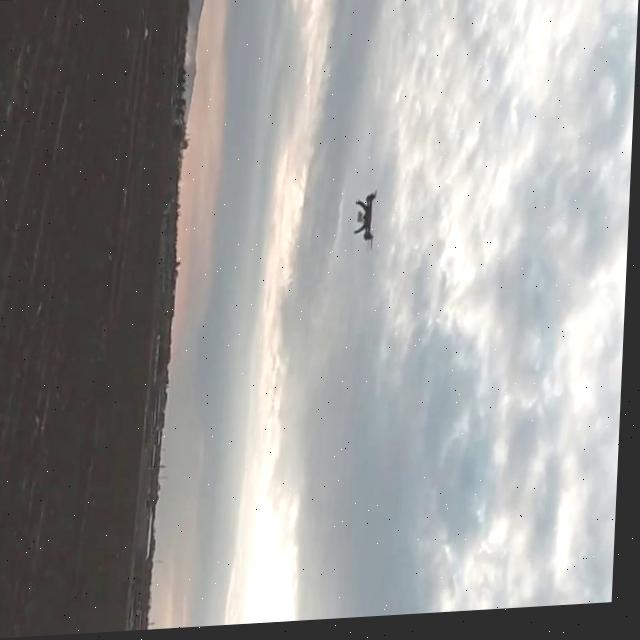drone: (354, 182, 385, 259)
